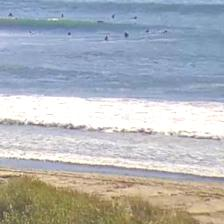surfer: (142, 28, 150, 34), (123, 31, 129, 38), (7, 12, 13, 18), (96, 20, 104, 24), (104, 36, 109, 42), (162, 30, 168, 35), (111, 13, 116, 19), (131, 16, 138, 20), (67, 31, 72, 36), (60, 14, 65, 18)
